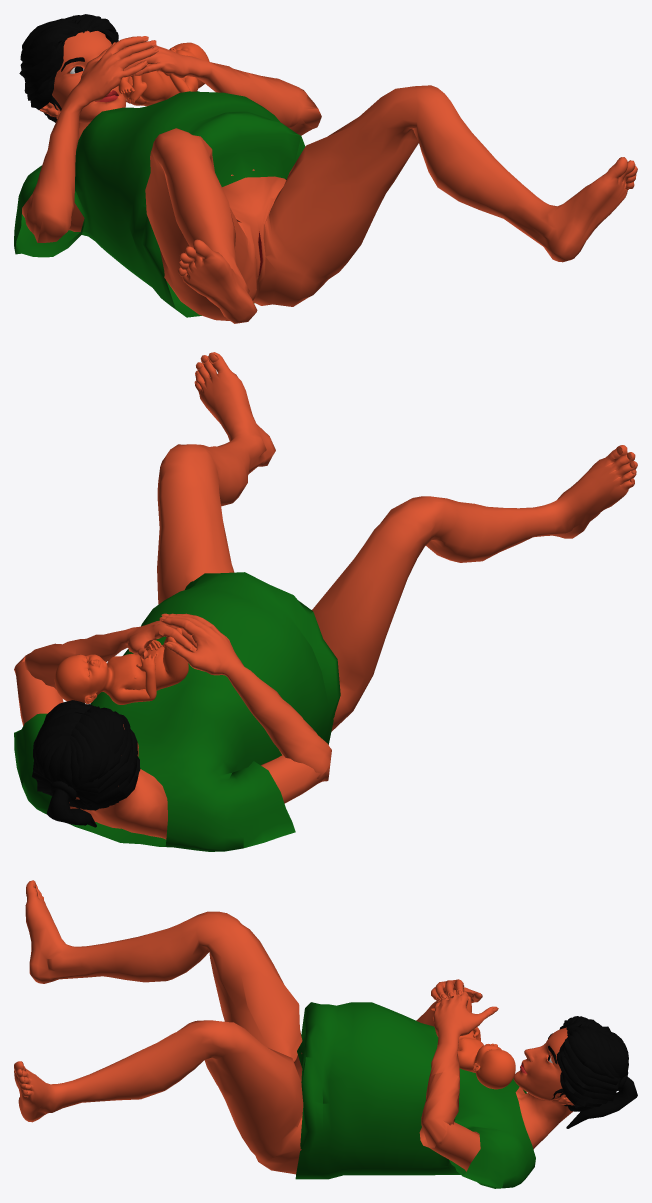
Rendered from mombaby_pregnancy.fbx.
3 views of the same model, one above another, from view 1: azimuth 30°, elevation 25°; view 2: azimuth 150°, elevation 25°; view 3: azimuth 270°, elevation 25° (orthographic). The views are drawn at different scales.
Parts seen in each view (by area): view 1: mombaby_pregnancy:Layer1, mombaby_pregnancy:Layer2; view 2: mombaby_pregnancy:Layer1, mombaby_pregnancy:Layer2; view 3: mombaby_pregnancy:Layer1, mombaby_pregnancy:Layer2.
Part boxes in pixels (<box>): mombaby_pregnancy:Layer1: <box>14,14,637,323</box>; mombaby_pregnancy:Layer2: <box>118,42,209,106</box>; mombaby_pregnancy:Layer1: <box>14,352,637,851</box>; mombaby_pregnancy:Layer2: <box>54,627,198,704</box>; mombaby_pregnancy:Layer1: <box>14,880,637,1188</box>; mombaby_pregnancy:Layer2: <box>431,995,515,1089</box>.
Bounding box in the file's own units: 100 × 50.6 × 145.
